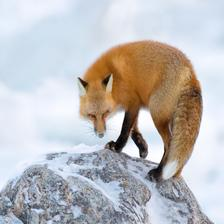fox: (71, 38, 208, 191)
